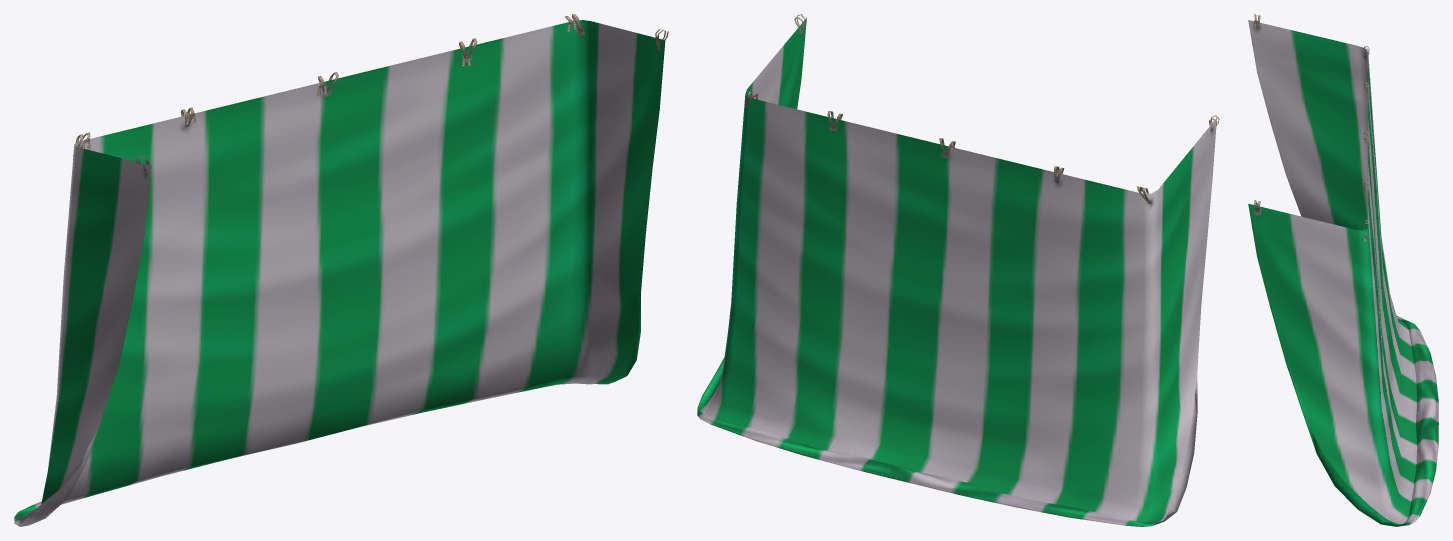
The model's file is jsf_BackSide_s02_c05_t01.fbx.
3 renders of one model, left to right at view 1: azimuth 30°, elevation 25°; view 2: azimuth 150°, elevation 25°; view 3: azimuth 270°, elevation 25°, orthographic. The views are drawn at different scales.
Parts seen in each view (by area): view 1: jsf_BackSide_s02_c05_t01; view 2: jsf_BackSide_s02_c05_t01; view 3: jsf_BackSide_s02_c05_t01.
Boxes of the visible parts, x1,y1,x2,y2 form: jsf_BackSide_s02_c05_t01: [14, 14, 668, 526]; jsf_BackSide_s02_c05_t01: [697, 14, 1219, 526]; jsf_BackSide_s02_c05_t01: [1248, 14, 1438, 526].
Size of the model in its own units: 296 by 205 by 112.
